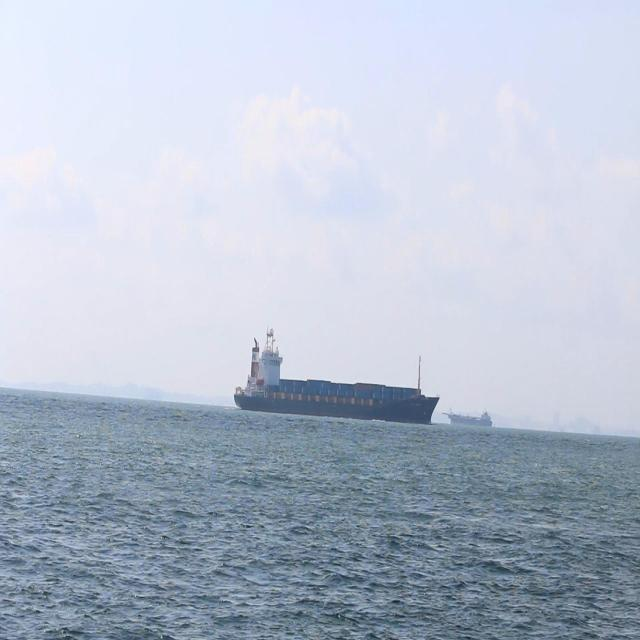ship: (233, 324, 439, 424), (444, 406, 494, 430)
